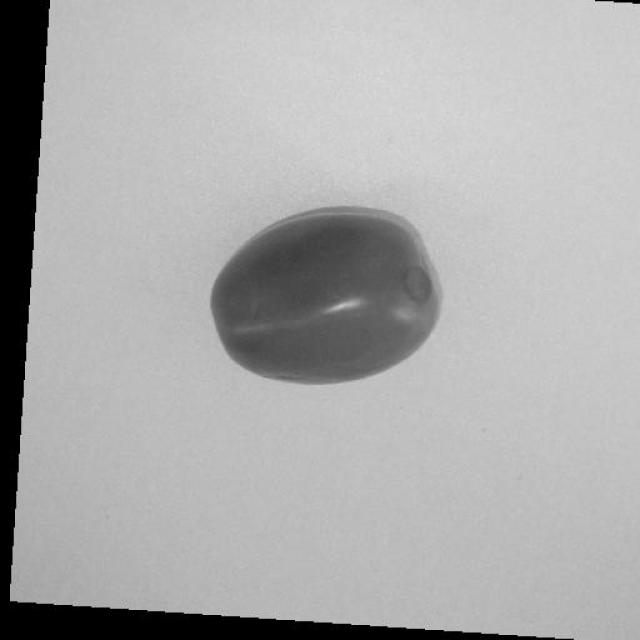Fresh_tomato: (190, 220, 442, 368)
